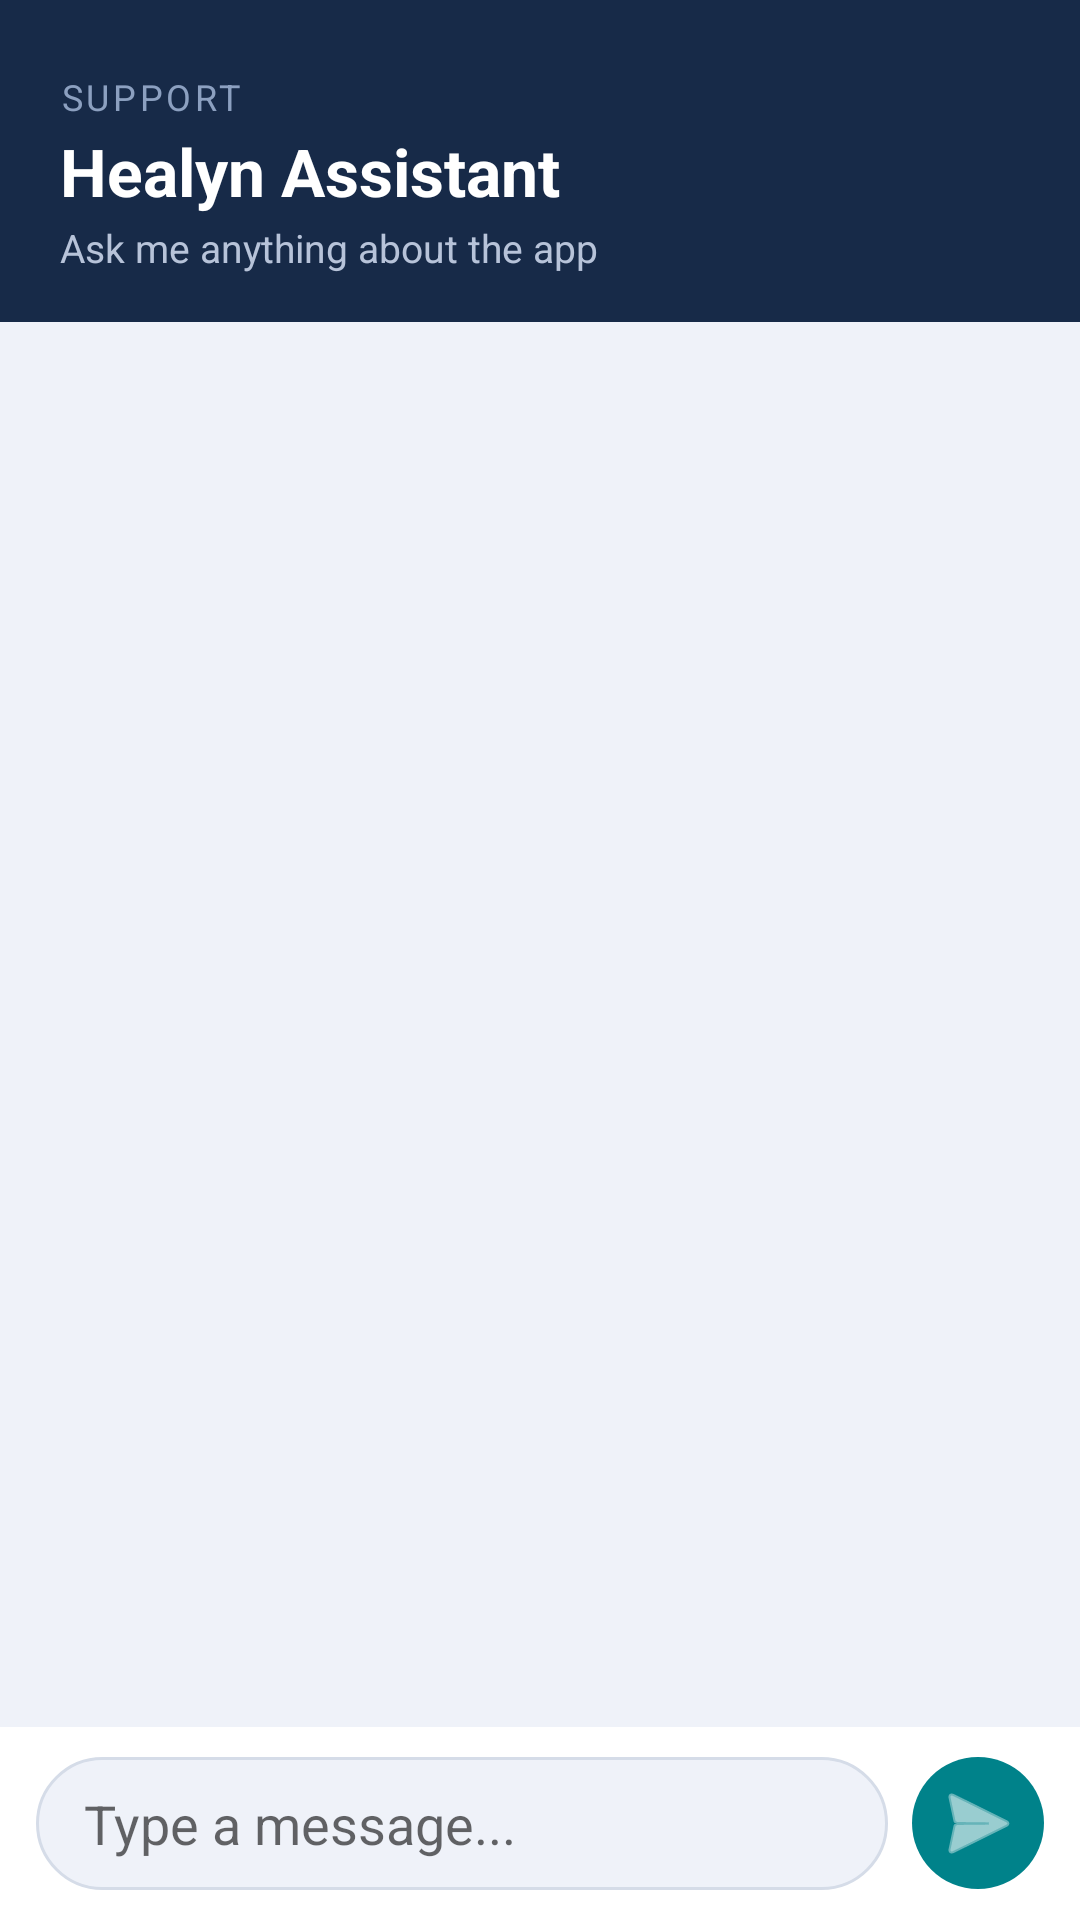

Point at icon controls on the screen. Image size 1080px x 1920px, points as [x,y].
Send message: [978,1823]
